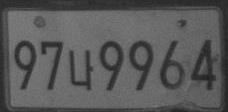4: (190, 39, 216, 90)
6: (159, 39, 186, 90)
7: (40, 40, 63, 90)
9: (127, 39, 154, 91), (98, 39, 124, 91), (13, 39, 36, 90)
나: (68, 49, 94, 90)
